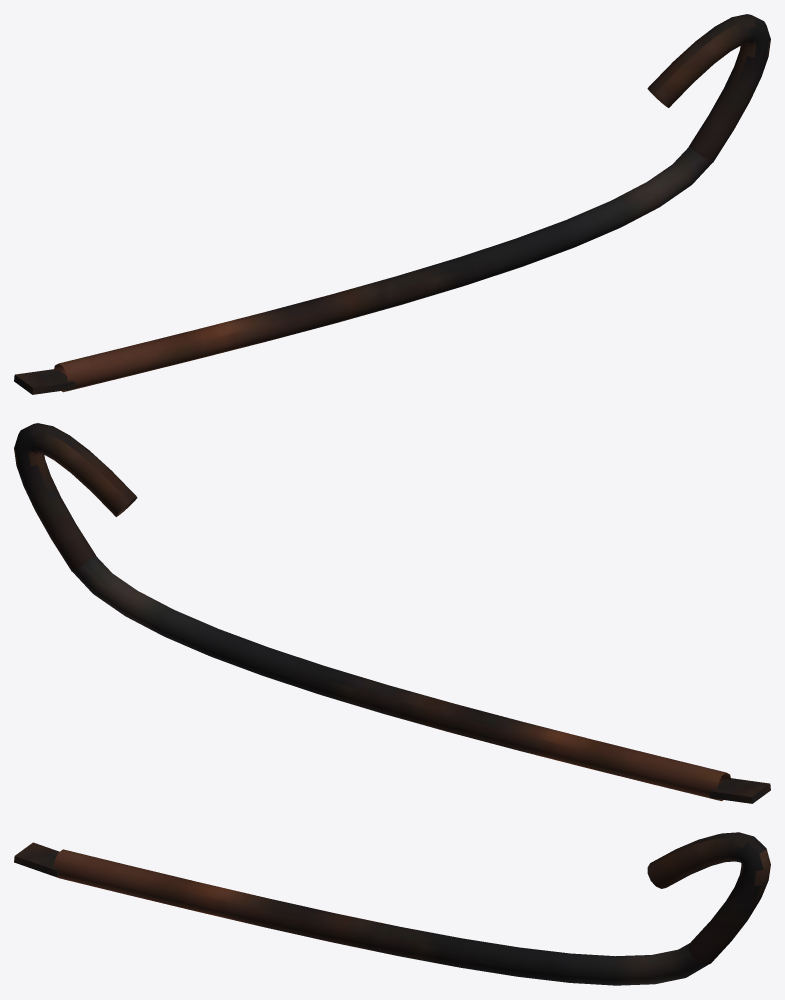
The model's file is G14_Crowbar.glb.
The picture shows the model from 3 angles, top to bottom: view 1: azimuth 30°, elevation 25°; view 2: azimuth 150°, elevation 25°; view 3: azimuth 330°, elevation 25°; orthographic projection.
Visible parts, largest first — view 1: G14_Crowbar; view 2: G14_Crowbar; view 3: G14_Crowbar.
Boxes of the visible parts, box(x1,y1,x2,y2) form: G14_Crowbar: box(14, 14, 770, 394); G14_Crowbar: box(14, 423, 770, 803); G14_Crowbar: box(14, 832, 770, 985).
Bounding box in the file's own units: 0.6 × 0.1598 × 0.0257.
Materials: 1 (1 with a texture image).
